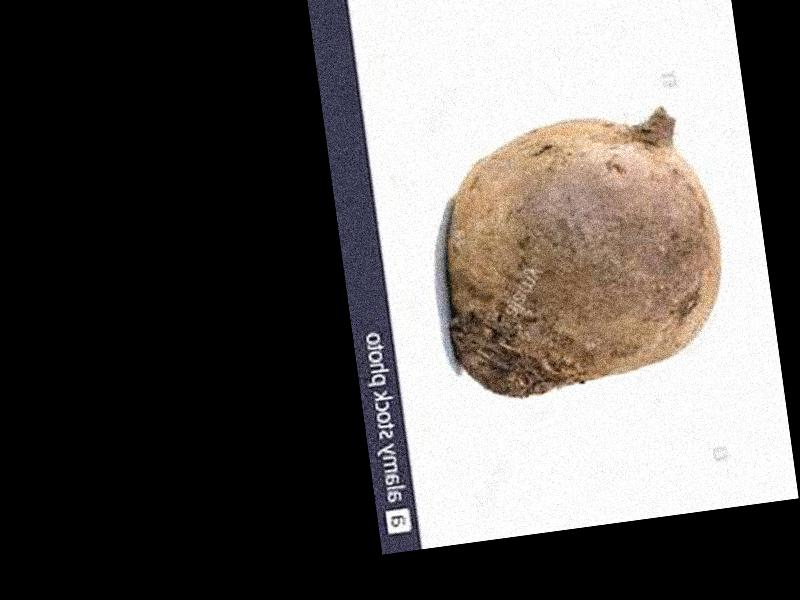Beet: (425, 100, 736, 403)
